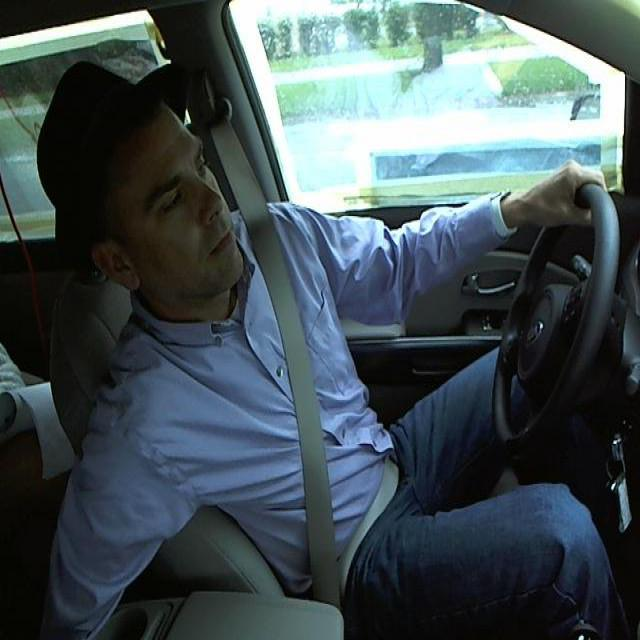seatbelt: (256, 245, 395, 583)
